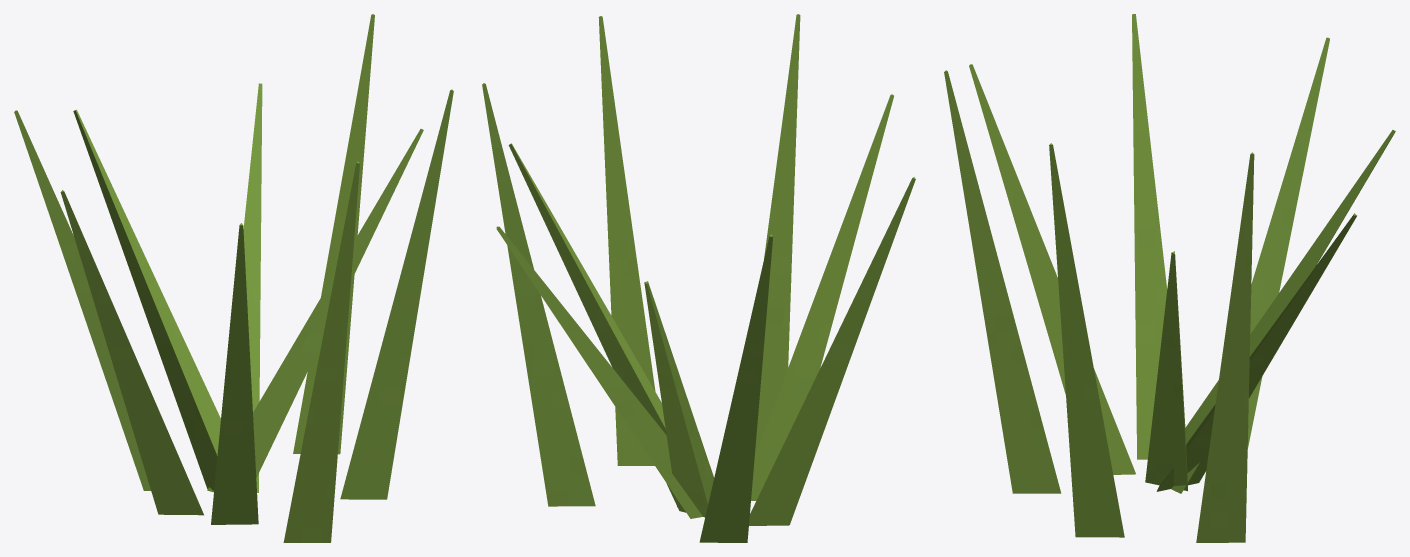
Rendered from low-poly-nature-grass-tuft-medium.glb.
3 views of the same model, side by side, from view 1: azimuth 30°, elevation 25°; view 2: azimuth 150°, elevation 25°; view 3: azimuth 270°, elevation 25° (orthographic). The views are drawn at different scales.
Parts seen in each view (by area): view 1: Tapered grass blade 006, Tapered grass blade 003, Tapered grass blade 007, Tapered grass blade 005, Tapered grass blade 008, Tapered grass blade 001, Tapered grass blade 009, Tapered grass blade 002, Tapered grass blade 004; view 2: Tapered grass blade 009, Tapered grass blade 005, Tapered grass blade 008, Tapered grass blade 006, Tapered grass blade 002, Tapered grass blade 003, Tapered grass blade 004, Tapered grass blade 007, Tapered grass blade 001; view 3: Tapered grass blade 003, Tapered grass blade 006, Tapered grass blade 009, Tapered grass blade 005, Tapered grass blade 008, Tapered grass blade 002, Tapered grass blade 001, Tapered grass blade 004, Tapered grass blade 007.
Boxes of the visible parts, x1,y1,x2,y2 form: Tapered grass blade 006: (340,89,453,499); Tapered grass blade 003: (283,161,359,542); Tapered grass blade 007: (73,109,220,490); Tapered grass blade 005: (60,190,203,515); Tapered grass blade 008: (211,223,258,524); Tapered grass blade 001: (207,129,423,492); Tapered grass blade 009: (293,14,374,454); Tapered grass blade 002: (14,110,150,490); Tapered grass blade 004: (243,83,262,492); Tapered grass blade 009: (482,83,595,506); Tapered grass blade 005: (749,177,915,525); Tapered grass blade 008: (751,94,893,500); Tapered grass blade 006: (598,16,655,465); Tapered grass blade 002: (699,234,772,542); Tapered grass blade 003: (754,14,800,456); Tapered grass blade 004: (496,226,702,518); Tapered grass blade 007: (644,281,713,517); Tapered grass blade 001: (508,143,685,512); Tapered grass blade 003: (944,70,1061,493); Tapered grass blade 006: (1049,143,1124,537); Tapered grass blade 009: (1196,152,1254,542); Tapered grass blade 005: (1132,14,1167,459); Tapered grass blade 008: (969,64,1135,474); Tapered grass blade 002: (1247,37,1329,448); Tapered grass blade 001: (1145,251,1187,491); Tapered grass blade 004: (1156,213,1356,491); Tapered grass blade 007: (1171,130,1395,493).
Bounding box in the file's own units: 0.4003 × 0.4054 × 0.3952.
Materials: 1 (1 with a texture image).
